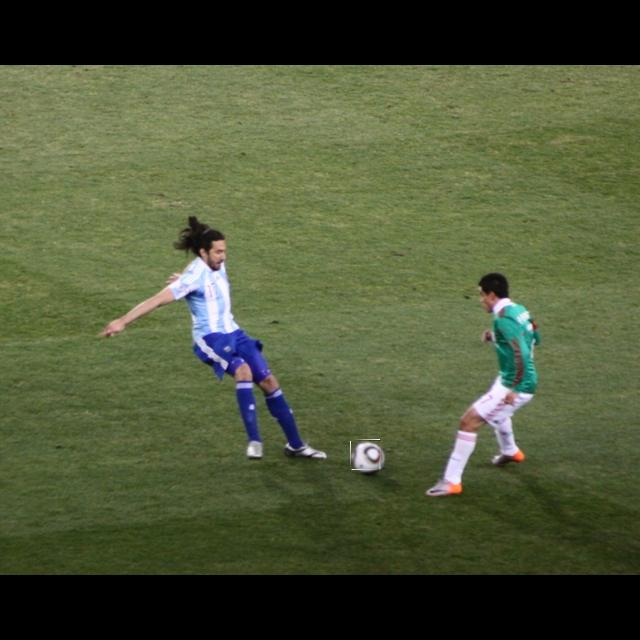Football: (351, 440, 381, 470)
